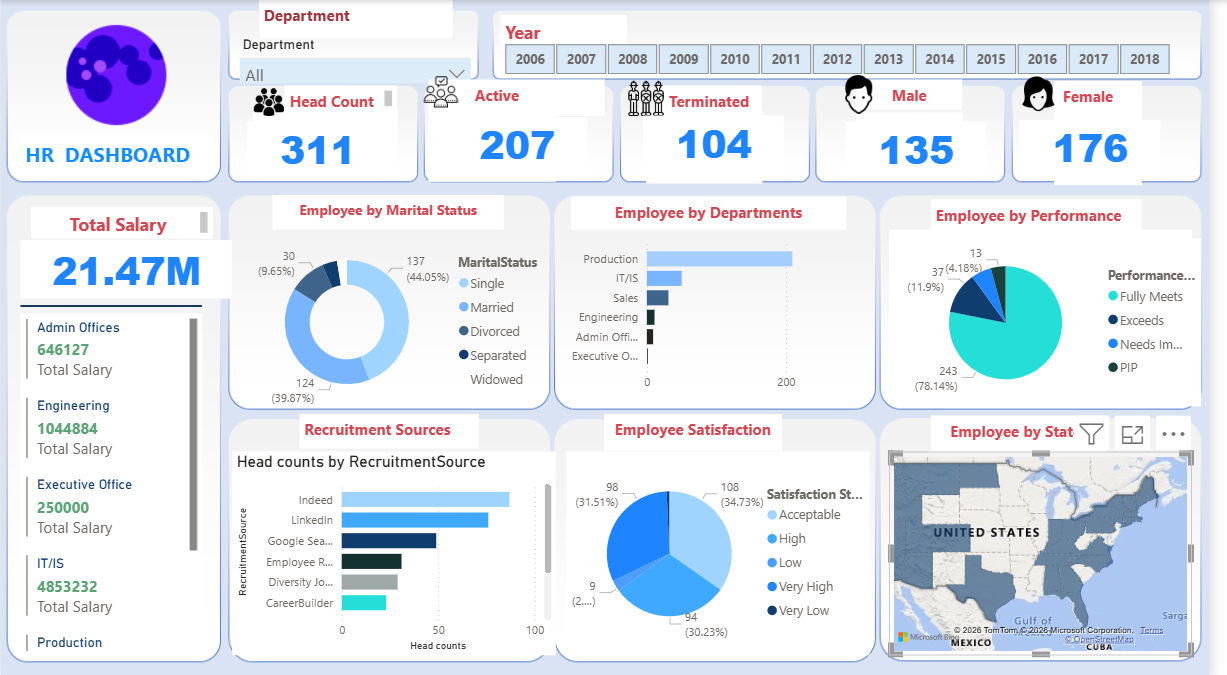

Layout of this report page (visuals, bound fields, positions):
{"tool":"powerbi","page":{"name":"Page 1","canvas":[1280,720],"ordinal":0},"visuals":[{"type":"image","box":[20.7,15.9,203.6,127.2],"z":0},{"type":"textbox","box":[20.7,143.2,203.6,41.4],"z":1000},{"type":"textbox","box":[273.3,0,205,40],"z":2000},{"type":"textbox","box":[529.1,15.1,134.2,35.9],"z":3000},{"type":"slicer","fields":{"Values":["HRData.Department"]},"box":[243.8,34,264.6,54.8],"z":4000},{"type":"slicer","fields":{"Values":["HRData.Hiring Year"]},"box":[508.4,39.7,754,45.4],"z":5000},{"type":"textbox","box":[300.6,90.7,119.3,27],"z":6000},{"type":"textbox","box":[1116.7,86.7,93.3,31.7],"z":7000},{"type":"textbox","box":[453.3,85,186.7,38.3],"z":8000},{"type":"textbox","box":[695,90,111.7,31.7],"z":9000},{"type":"textbox","box":[906.6,84.3,112.9,31.8],"z":10000},{"type":"textbox","box":[266.7,116.7,153.3,68.3],"z":11000},{"type":"textbox","box":[288.3,206.7,245,36.7],"z":12000},{"type":"textbox","box":[605,208.3,291.7,35],"z":13000},{"type":"textbox","box":[986.7,211.7,223.3,31.7],"z":14000},{"type":"textbox","box":[640,438.3,188.3,38.3],"z":15000},{"type":"textbox","box":[21,532,188,150],"z":16000},{"type":"textbox","box":[316.7,438.3,190,36.7],"z":17000},{"type":"textbox","box":[986.7,440,186.7,38.3],"z":18000},{"type":"textbox","box":[453.3,116.7,135,76.7],"z":19000},{"type":"textbox","box":[683.3,120,123.3,75],"z":20000},{"type":"textbox","box":[906.7,120,113.3,71.7],"z":21000},{"type":"textbox","box":[1116.7,118.3,93.3,78.3],"z":22000},{"type":"textbox","box":[987,258,223,151],"z":23000},{"type":"image","box":[256.1,92.3,55.7,31.8],"z":24000},{"type":"image","box":[439,77.9,55.7,39.8],"z":25000},{"type":"image","box":[655.3,84.3,57.3,39.8],"z":26000},{"type":"image","box":[886,77.9,47.7,44.5],"z":27000},{"type":"image","box":[1067.3,79.5,65.2,39.8],"z":28000},{"type":"textSlicer","box":[655.3,531.3,190.9,151.1],"z":29000},{"type":"donutChart","fields":{"Y":["All Measures.Head counts"],"Category":["HRData.MaritalStatus"]},"box":[243.4,243.4,345.2,195.6],"z":30000},{"type":"barChart","fields":{"Category":["HRData.Department"],"Y":["All Measures.Head counts"]},"box":[588.5,245,332.4,178.1],"z":31000},{"type":"pieChart","fields":{"Y":["All Measures.Head counts"],"Category":["HRData.PerformanceScore"]},"box":[941.6,243.4,321.3,178.1],"z":32000},{"type":"barChart","fields":{"Y":["All Measures.Head counts"],"Category":["HRData.RecruitmentSource"]},"box":[245,478.8,343.6,216.3],"z":33000},{"type":"pieChart","fields":{"Y":["All Measures.Head counts"],"Series":["HRData.Satisfaction Status"]},"box":[599.7,478.8,321.3,216.3],"z":34000},{"type":"pieChart","fields":{"Y":["All Measures.Head counts"],"Category":["HRData.PerformanceScore"]},"box":[951.6,253.4,321.3,178.1],"z":35000},{"type":"filledMap","fields":{"Category":["HRData.State"]},"box":[941.6,478.8,321.3,216.3],"z":36000},{"type":"textbox","box":[31.8,219.5,192.5,33.4],"z":37000},{"type":"shape","box":[20.7,316.5,192.5,15.9],"z":38000},{"type":"card","fields":{"Values":["All Measures.Total Salary"]},"box":[20.7,254.5,224.3,62],"z":39000},{"type":"card","fields":{"Values":["All Measures.Head counts"]},"box":[260.9,128.8,149.5,57.3],"z":40000},{"type":"card","fields":{"Values":["All Measures.Female"]},"box":[1080,127.2,149.5,57.3],"z":41000},{"type":"card","fields":{"Values":["All Measures.Male"]},"box":[895.5,128.8,149.5,57.3],"z":42000},{"type":"card","fields":{"Values":["All Measures.Terminated"]},"box":[680.8,122.5,149.5,57.3],"z":43000},{"type":"card","fields":{"Values":["All Measures.Active"]},"box":[472.4,124.1,149.5,57.3],"z":44000},{"type":"multiRowCard","fields":{"Values":["HRData.Department","All Measures.Total Salary"]},"box":[20.7,332.4,192.5,362.7],"z":45000}]}

Visuals, with their boxes in screenshot pixels (x1, y1, x2, y2), scaled from the page's 1280x720 canvas onto the 1227x675 screenshot:
image: (20,15,215,134)
textbox: (20,134,215,173)
textbox: (262,0,458,38)
textbox: (507,14,636,48)
slicer - HRData.Department: (234,32,487,83)
slicer - HRData.Hiring Year: (487,37,1210,80)
textbox: (288,85,403,110)
textbox: (1070,81,1160,111)
textbox: (435,80,614,116)
textbox: (666,84,773,114)
textbox: (869,79,977,109)
textbox: (256,109,403,173)
textbox: (276,194,511,228)
textbox: (580,195,860,228)
textbox: (946,198,1160,228)
textbox: (614,411,794,447)
textbox: (20,499,200,639)
textbox: (304,411,486,445)
textbox: (946,412,1125,448)
textbox: (435,109,564,181)
textbox: (655,112,773,183)
textbox: (869,112,978,180)
textbox: (1070,111,1160,184)
textbox: (946,242,1160,383)
image: (245,87,299,116)
image: (421,73,474,110)
image: (628,79,683,116)
image: (849,73,895,115)
image: (1023,75,1086,112)
textSlicer: (628,498,811,640)
donutChart - All Measures.Head counts x HRData.MaritalStatus: (233,228,564,412)
barChart - HRData.Department x All Measures.Head counts: (564,230,883,397)
pieChart - All Measures.Head counts x HRData.PerformanceScore: (903,228,1211,395)
barChart - All Measures.Head counts x HRData.RecruitmentSource: (235,449,564,652)
pieChart - All Measures.Head counts x HRData.Satisfaction Status: (575,449,883,652)
pieChart - All Measures.Head counts x HRData.PerformanceScore: (912,238,1220,405)
filledMap - HRData.State: (903,449,1211,652)
textbox: (30,206,215,237)
shape: (20,297,204,312)
card - All Measures.Total Salary: (20,239,235,297)
card - All Measures.Head counts: (250,121,393,174)
card - All Measures.Female: (1035,119,1179,173)
card - All Measures.Male: (858,121,1002,174)
card - All Measures.Terminated: (653,115,796,169)
card - All Measures.Active: (453,116,596,170)
multiRowCard - HRData.Department x All Measures.Total Salary: (20,312,204,652)
